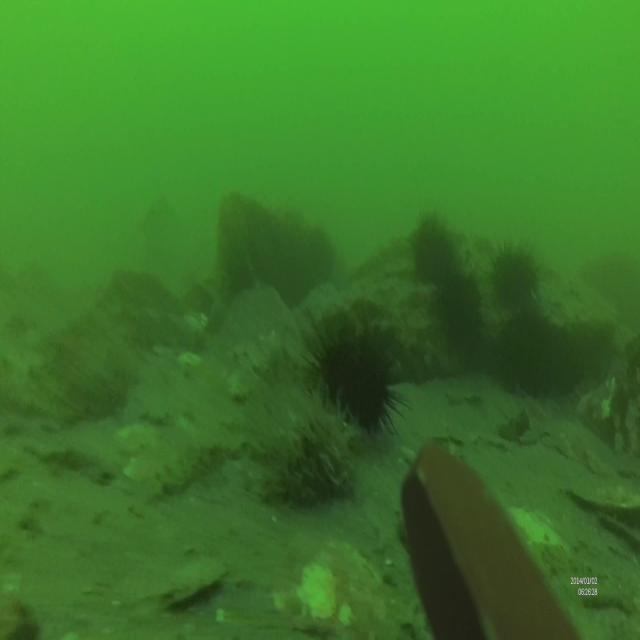echinus: (301, 310, 411, 440), (407, 205, 462, 286), (490, 232, 541, 310), (438, 270, 483, 342)
